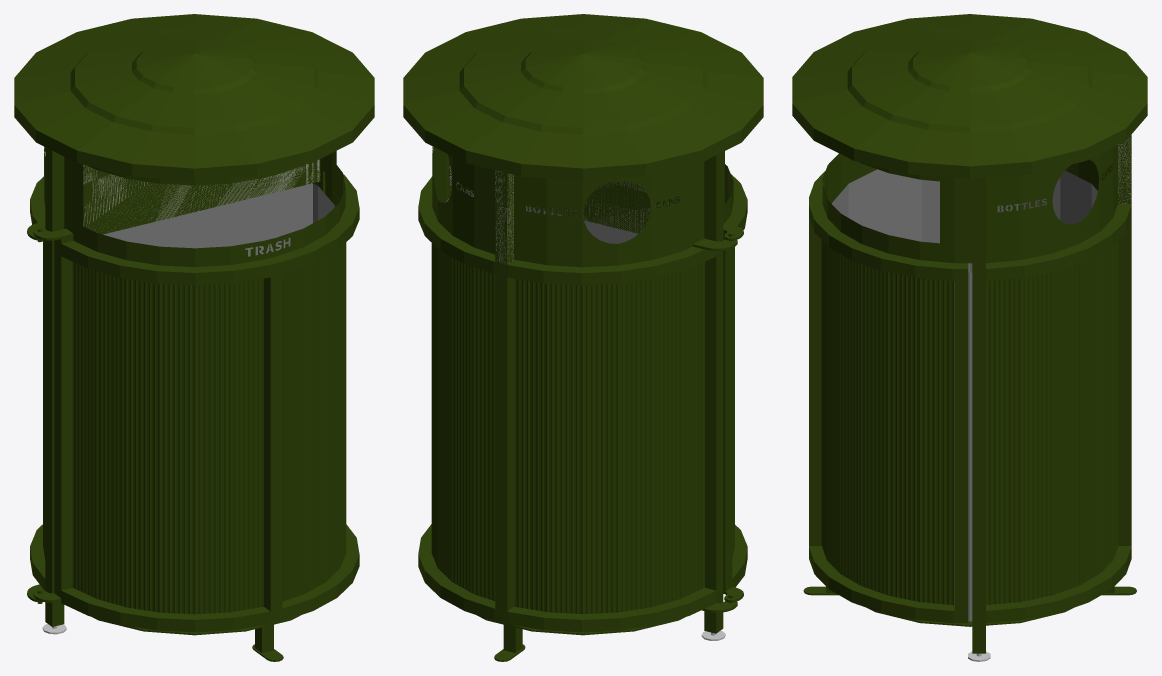
3 views of the same model, side by side, from view 1: azimuth 30°, elevation 25°; view 2: azimuth 150°, elevation 25°; view 3: azimuth 270°, elevation 25° (orthographic).
Visible parts, largest first — view 1: mesh46.002_mesh46-geometry, mesh21.001_mesh21-geometry, mesh1.002_mesh1-geometry, mesh18.001_mesh18-geometry, mesh20.001_mesh20-geometry, mesh49_mesh49-geometry, mesh36.001_mesh36-geometry, mesh14.002_mesh14-geometry, mesh3.004_mesh3-geometry, mesh44.001_mesh44-geometry, mesh3.001_mesh3-geometry, mesh5.002_mesh5-geometry (+6 smaller); view 2: mesh1.001_mesh1-geometry, mesh21.001_mesh21-geometry, mesh46.001_mesh46-geometry, mesh16.001_mesh16-geometry, mesh44.001_mesh44-geometry, mesh3.002_mesh3-geometry, mesh5.003_mesh5-geometry, mesh14.001_mesh14-geometry, mesh17.001_mesh17-geometry, mesh36.001_mesh36-geometry, mesh49_mesh49-geometry, mesh3.003_mesh3-geometry (+7 smaller); view 3: mesh21.001_mesh21-geometry, mesh1.002_mesh1-geometry, mesh46.001_mesh46-geometry, mesh20.001_mesh20-geometry, mesh17.001_mesh17-geometry, mesh34.001_mesh34-geometry, mesh18.001_mesh18-geometry, mesh38.001_mesh38-geometry, mesh14.001_mesh14-geometry, mesh14.002_mesh14-geometry, mesh3.001_mesh3-geometry, mesh3.002_mesh3-geometry (+6 smaller).
Part boxes in pixels (x1,y1,x2,y2): mesh46.002_mesh46-geometry: (72,262,263,614); mesh21.001_mesh21-geometry: (14,14,374,180); mesh1.002_mesh1-geometry: (282,190,346,601); mesh18.001_mesh18-geometry: (64,151,345,266); mesh20.001_mesh20-geometry: (103,183,334,256); mesh49_mesh49-geometry: (83,159,320,234); mesh36.001_mesh36-geometry: (54,236,73,597); mesh14.002_mesh14-geometry: (264,274,282,611); mesh3.004_mesh3-geometry: (61,526,359,632); mesh44.001_mesh44-geometry: (45,147,64,626); mesh3.001_mesh3-geometry: (61,175,359,285); mesh5.002_mesh5-geometry: (61,178,359,283); mesh1.001_mesh1-geometry: (514,262,704,614); mesh21.001_mesh21-geometry: (403,14,763,180); mesh46.001_mesh46-geometry: (431,190,495,601); mesh16.001_mesh16-geometry: (514,161,704,267); mesh44.001_mesh44-geometry: (704,152,723,633); mesh3.002_mesh3-geometry: (418,524,716,632); mesh5.003_mesh5-geometry: (418,176,716,285); mesh14.001_mesh14-geometry: (495,274,513,611); mesh17.001_mesh17-geometry: (432,146,495,254); mesh36.001_mesh36-geometry: (723,232,732,591); mesh49_mesh49-geometry: (449,161,679,233); mesh3.003_mesh3-geometry: (418,181,714,284); mesh21.001_mesh21-geometry: (792,14,1147,178); mesh1.002_mesh1-geometry: (821,240,954,605); mesh46.001_mesh46-geometry: (986,240,1118,605); mesh20.001_mesh20-geometry: (832,169,1100,621); mesh17.001_mesh17-geometry: (986,145,1117,263); mesh34.001_mesh34-geometry: (972,177,985,653); mesh18.001_mesh18-geometry: (822,153,972,263); mesh38.001_mesh38-geometry: (954,263,968,623); mesh14.001_mesh14-geometry: (1118,217,1131,545); mesh14.002_mesh14-geometry: (809,217,821,545); mesh3.001_mesh3-geometry: (809,165,954,281); mesh3.002_mesh3-geometry: (986,546,1131,623).
Bounding box in the file's own units: 0.4621 × 0.7611 × 0.4551.
